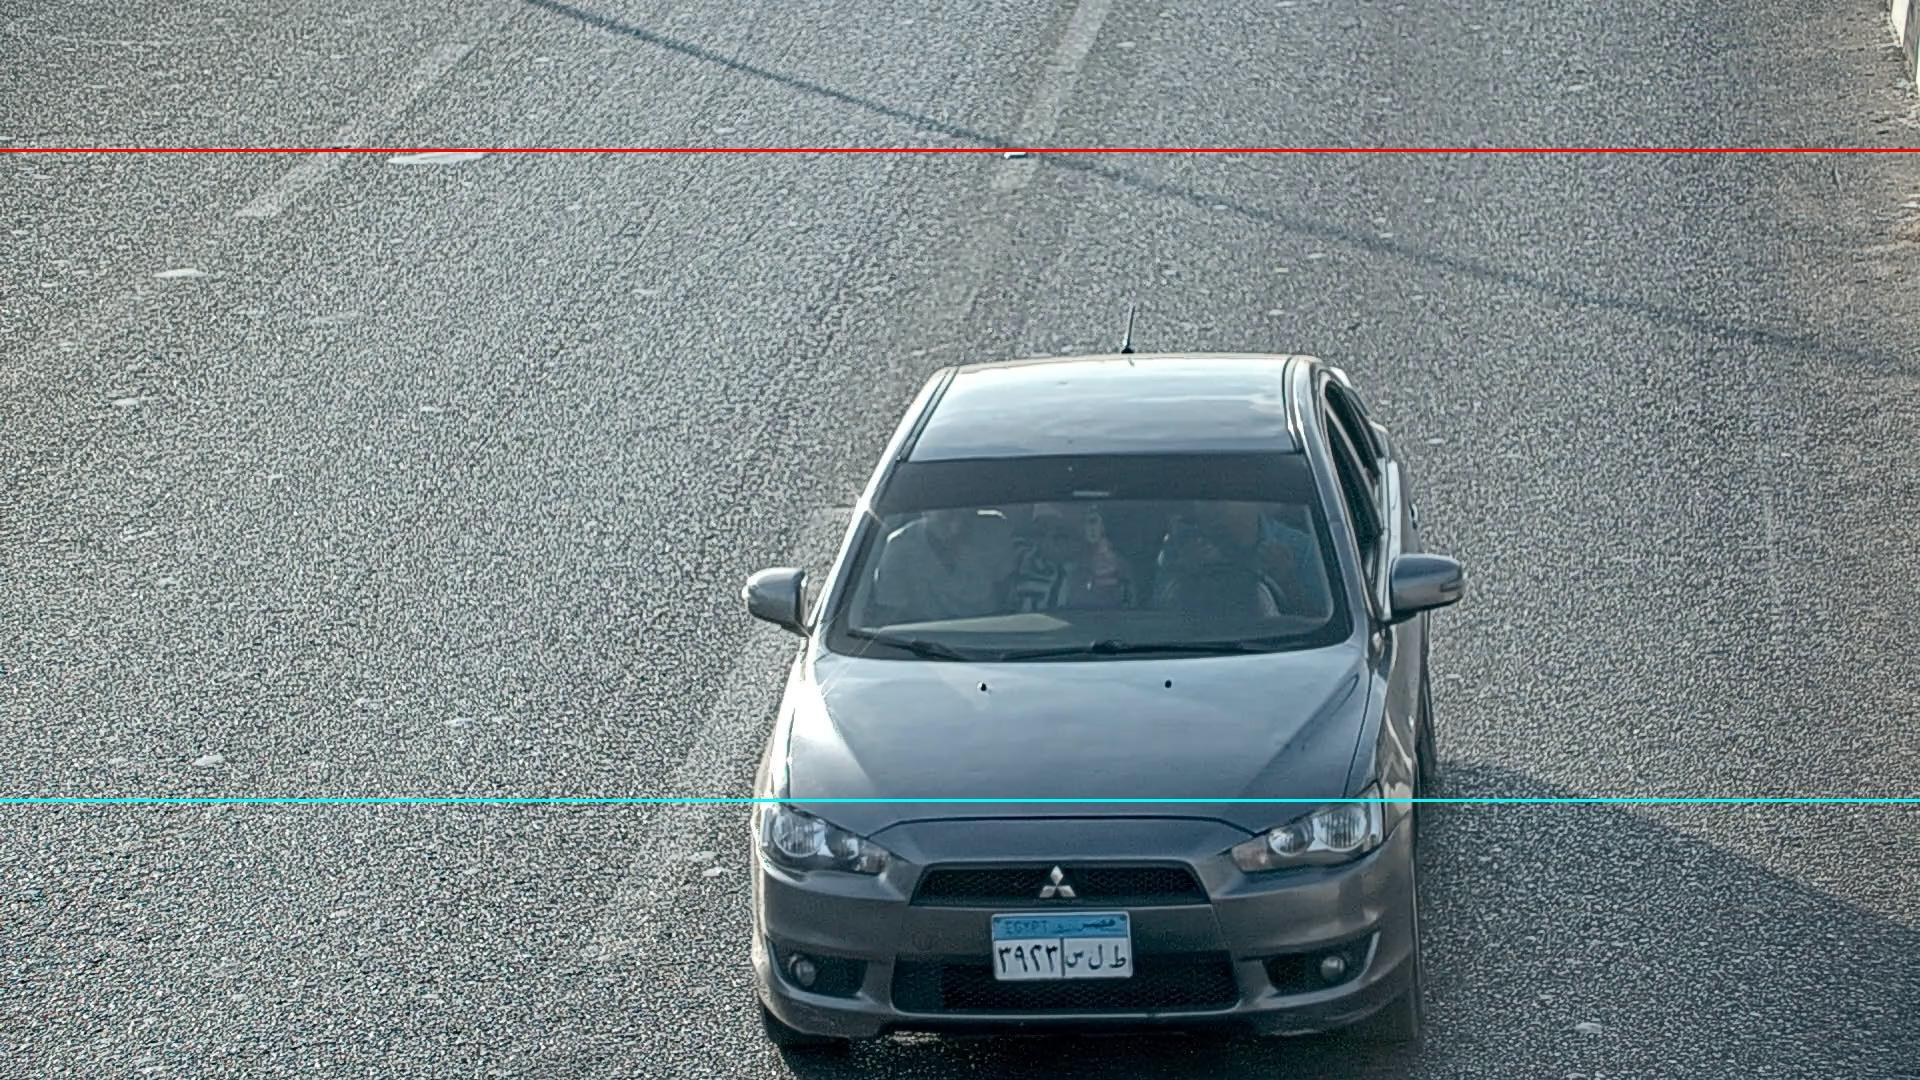windshield: (804, 430, 1364, 694)
